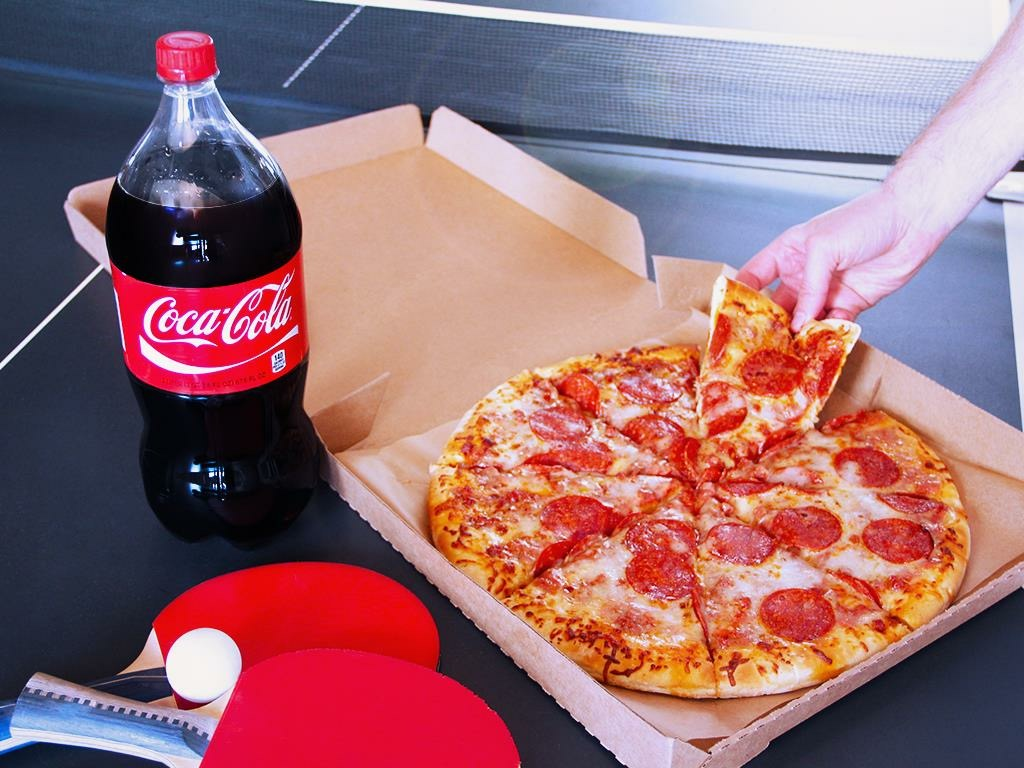coke: (104, 27, 321, 528)
